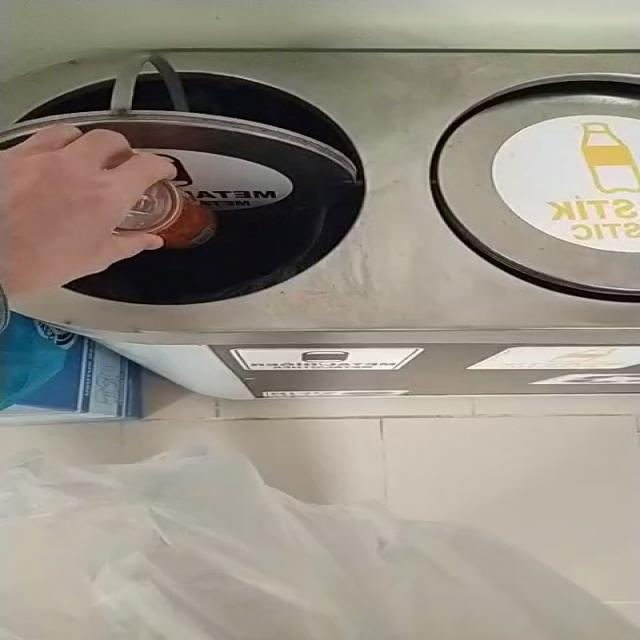bin: (3, 51, 640, 400)
metal: (115, 180, 216, 248)
